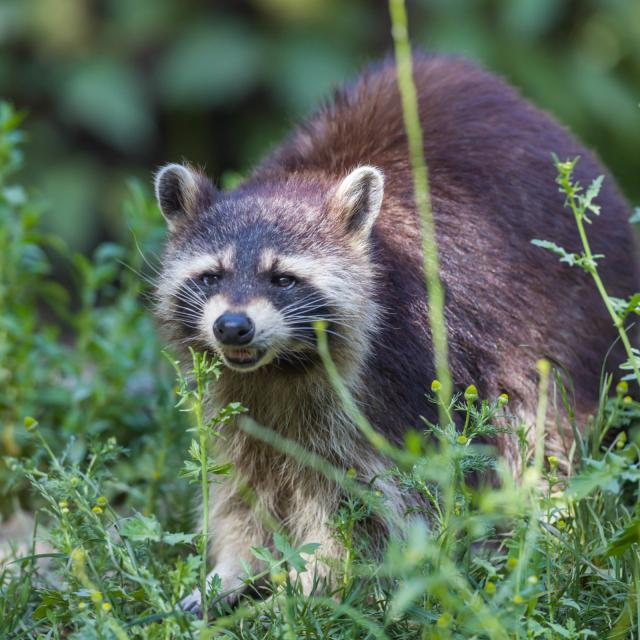Raccoon: (139, 34, 640, 603)
